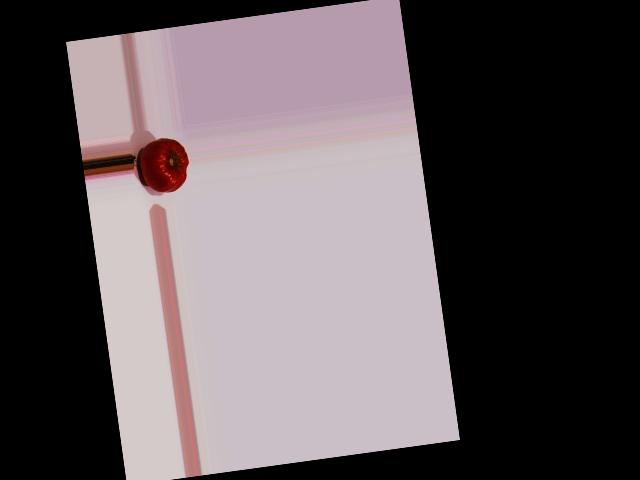tomato: (137, 135, 191, 195)
